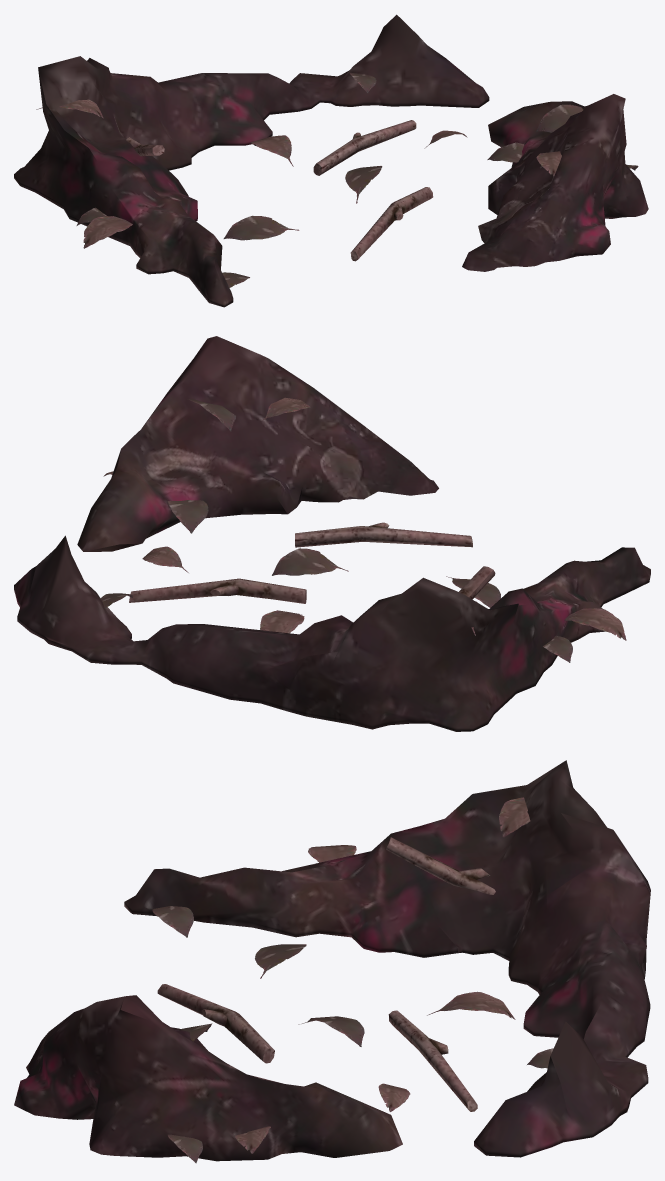
3 renders of one model, top to bottom at view 1: azimuth 30°, elevation 25°; view 2: azimuth 150°, elevation 25°; view 3: azimuth 270°, elevation 25°, orthographic. The views are drawn at different scales.
Visible parts, largest first — view 1: SM_Compost_Ultra_01v1_LOD0; view 2: SM_Compost_Ultra_01v1_LOD0; view 3: SM_Compost_Ultra_01v1_LOD0.
Part boxes in pixels (bbox=[...]): SM_Compost_Ultra_01v1_LOD0: bbox=[14, 14, 648, 307]; SM_Compost_Ultra_01v1_LOD0: bbox=[14, 336, 650, 731]; SM_Compost_Ultra_01v1_LOD0: bbox=[14, 760, 650, 1163].
Size of the model in its own units: 1.09 by 0.2525 by 0.9444.
1 material, 1 textured.
